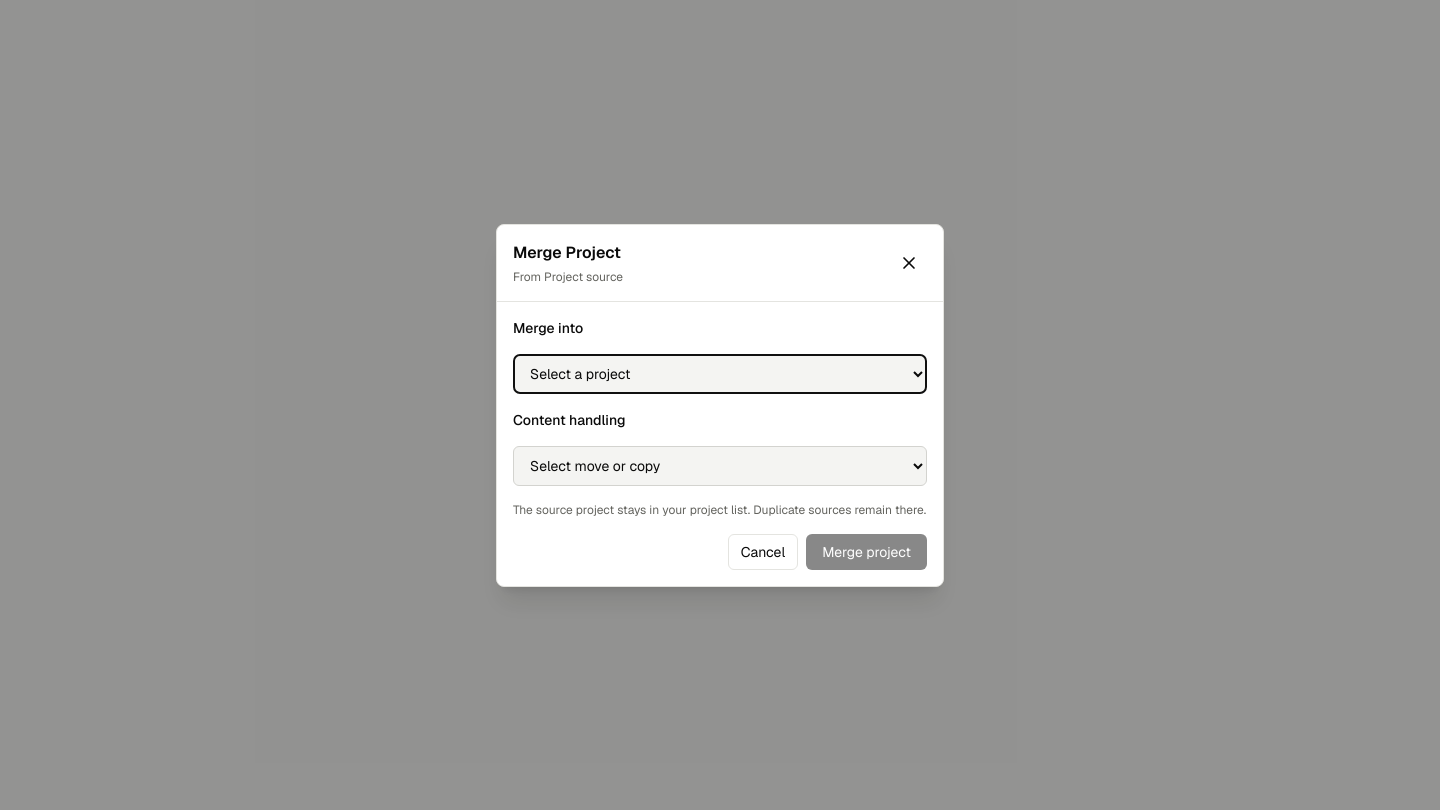
it: ProjectMergeDialog › merges into an owned target with the chosen mode and reports skipped sources
Select "Project target" in the dropdown labelled "Merge into": {"x": 720, "y": 374} [513,354,927,394]
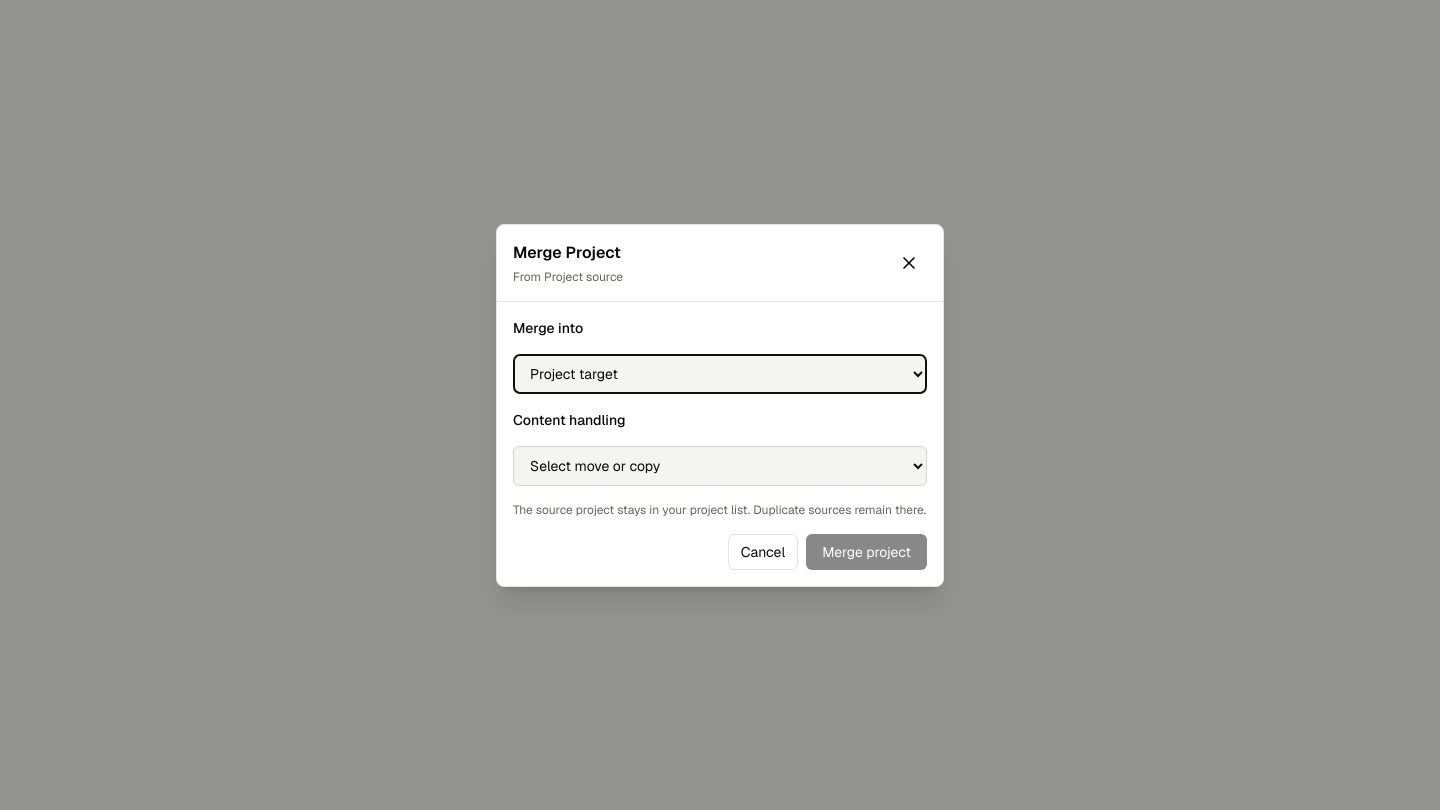
Select "Copy content and keep the source project" in the dropdown labelled "Content handling": {"x": 720, "y": 466} [513,446,927,486]
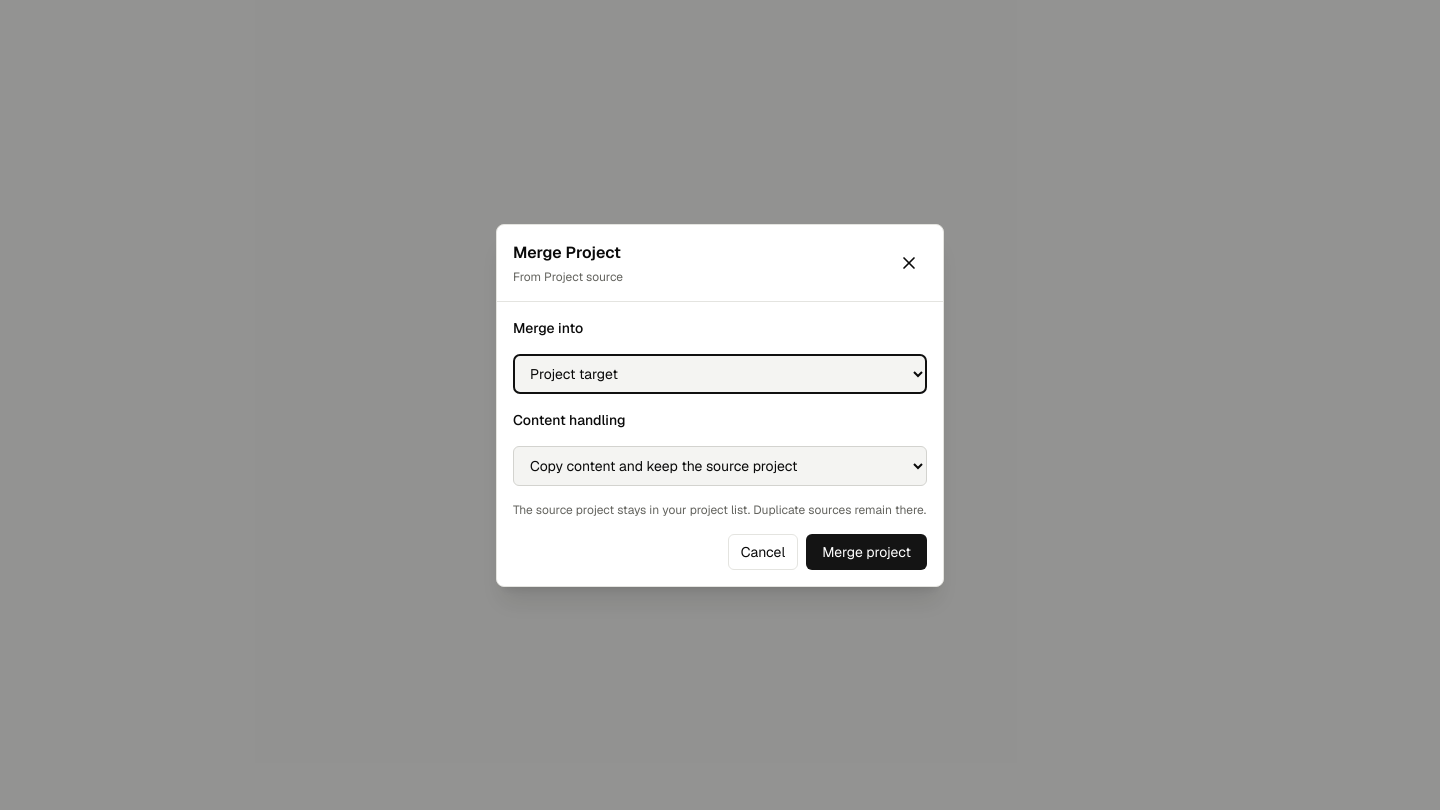
Click the button "Merge project": {"x": 867, "y": 552} [806,534,927,570]
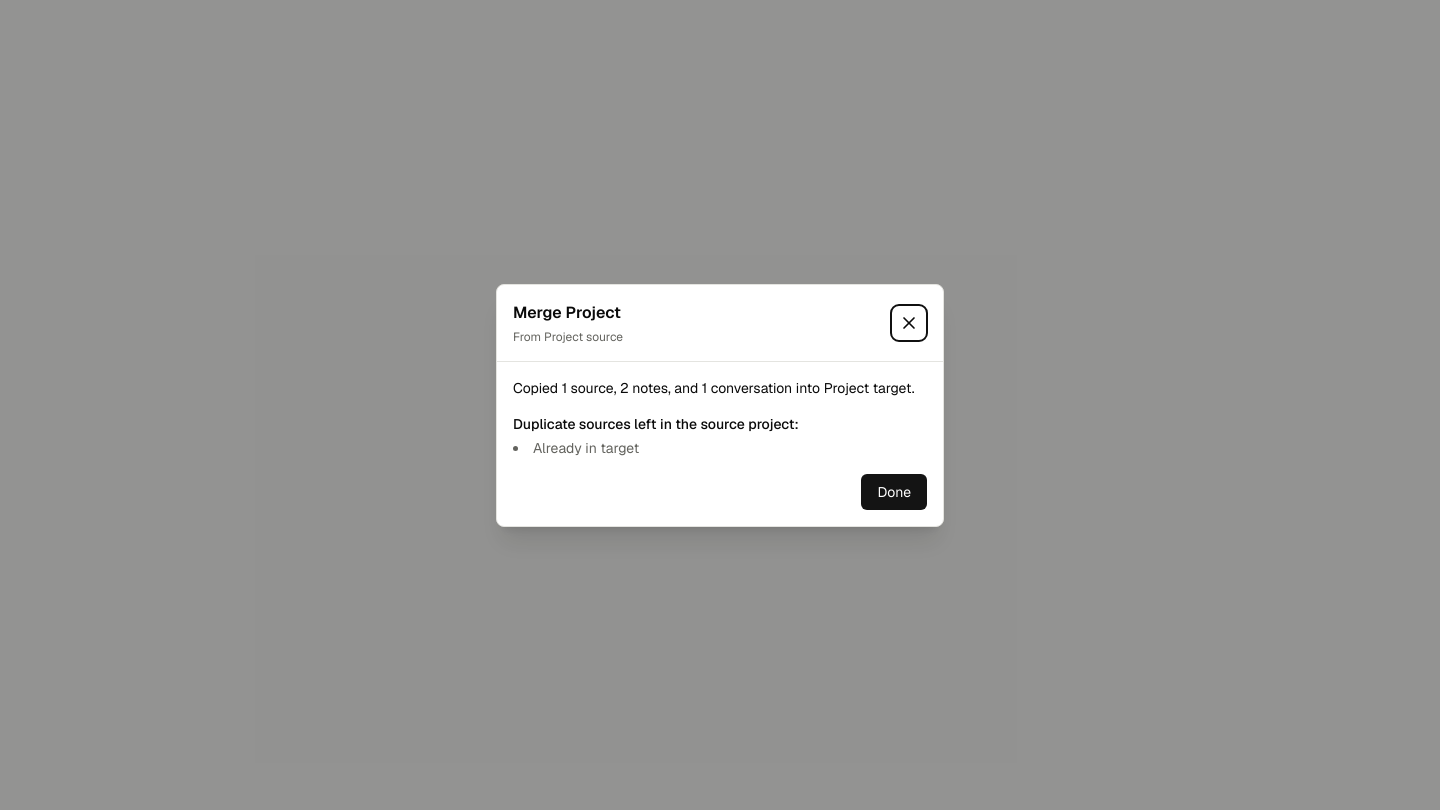
Check: the message shows "Copied 1 source", box [513,378,927,398]
Check: the list item "Already in target" is shown, box [533,438,639,456]
